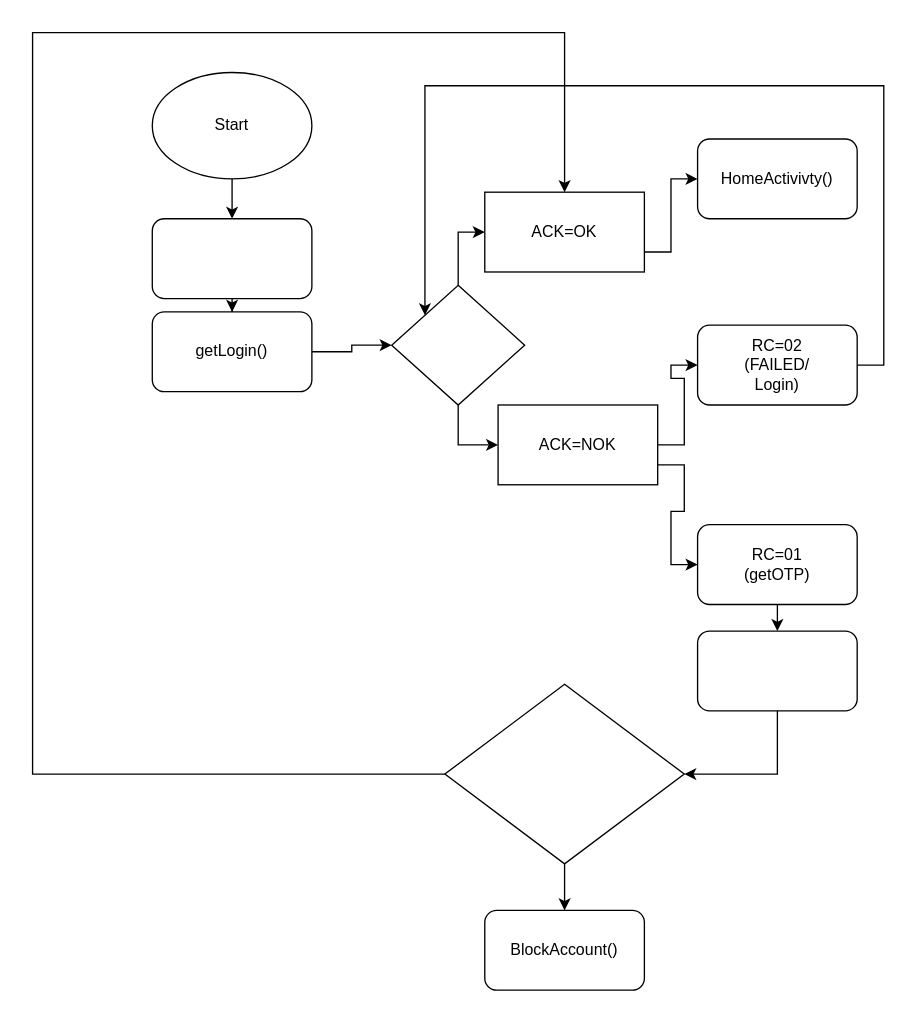
This 918x1013 diagram has some shape labels left out. Here are the shapes that lost their labels. From the top down, the centre of each, then its label:
(231,258): clean cookies()
(457,344): Expired changeDevice()
(776,670): VerifyOtp()
(564,773): changeDevice() json.put("idAccount) json.put("otp")
